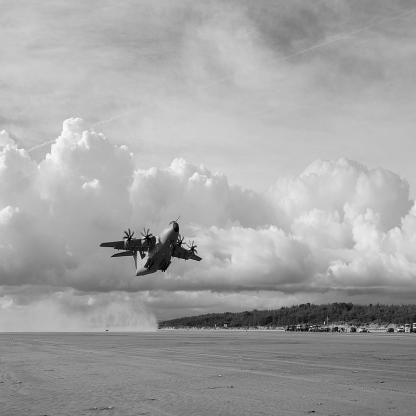A400M: (100, 216, 204, 278)
